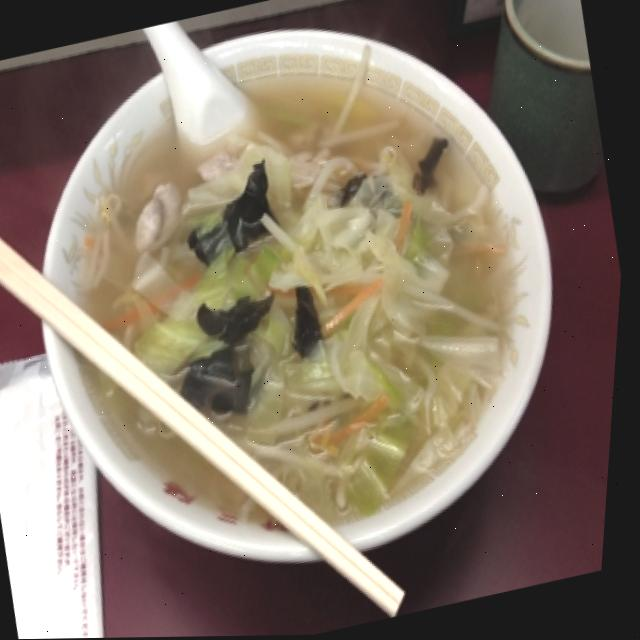面条主食: (25, 51, 595, 565)
